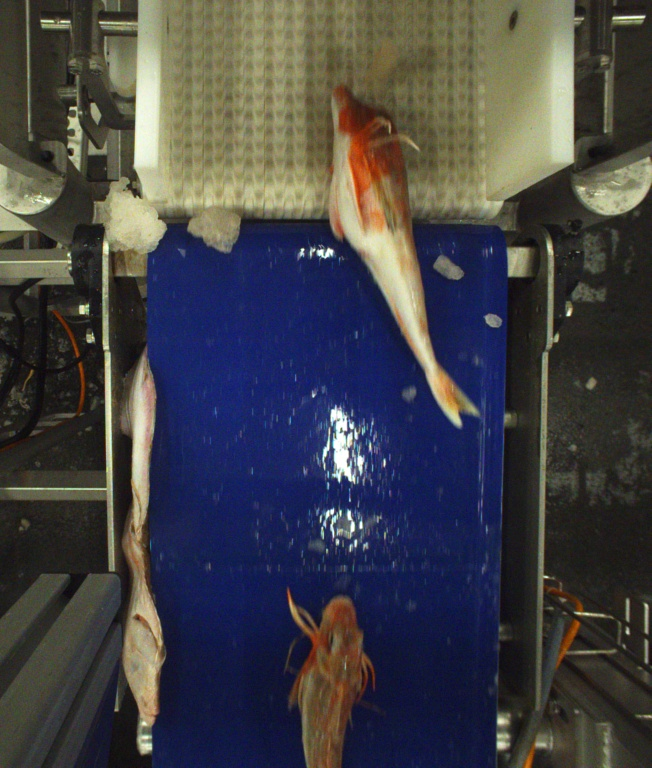GUU: (318, 85, 482, 429)
